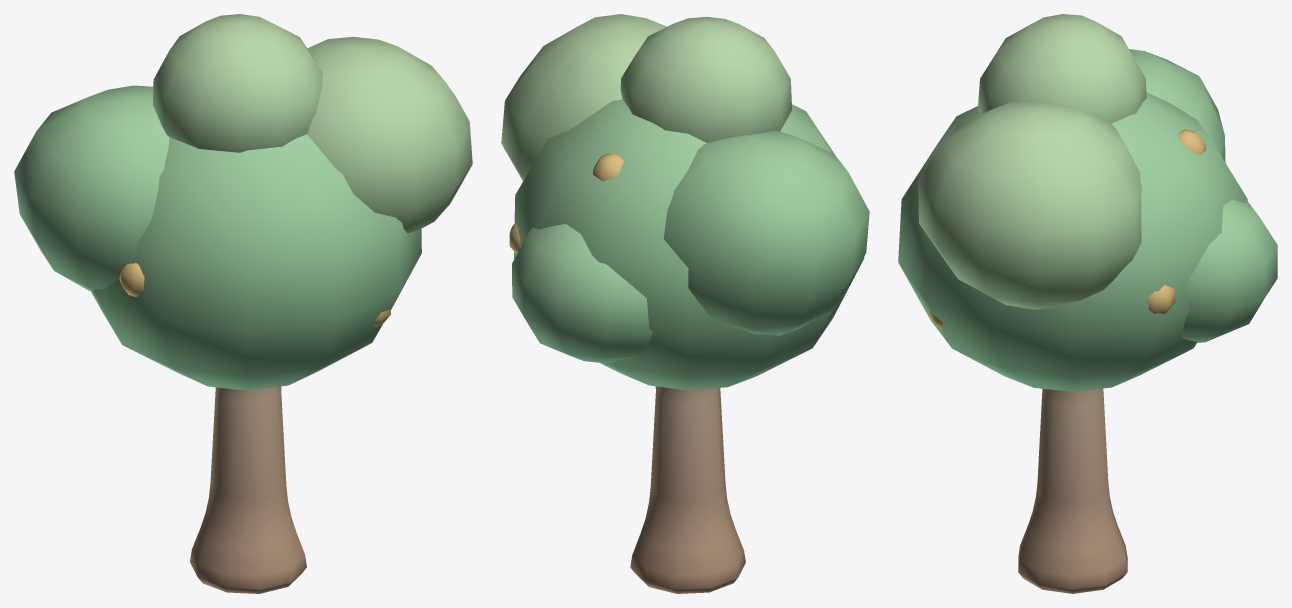
Rendered from tree.glb.
3 renders of one model, left to right at view 1: azimuth 30°, elevation 25°; view 2: azimuth 150°, elevation 25°; view 3: azimuth 270°, elevation 25°, orthographic. The views are drawn at different scales.
Parts seen in each view (by area): view 1: Body; view 2: Body; view 3: Body.
Boxes of the visible parts, bbox=[...] form: Body: bbox=[14, 14, 472, 593]; Body: bbox=[501, 14, 869, 593]; Body: bbox=[898, 14, 1277, 593].
Bounding box in the file's own units: 8.46 × 11.71 × 7.4.
